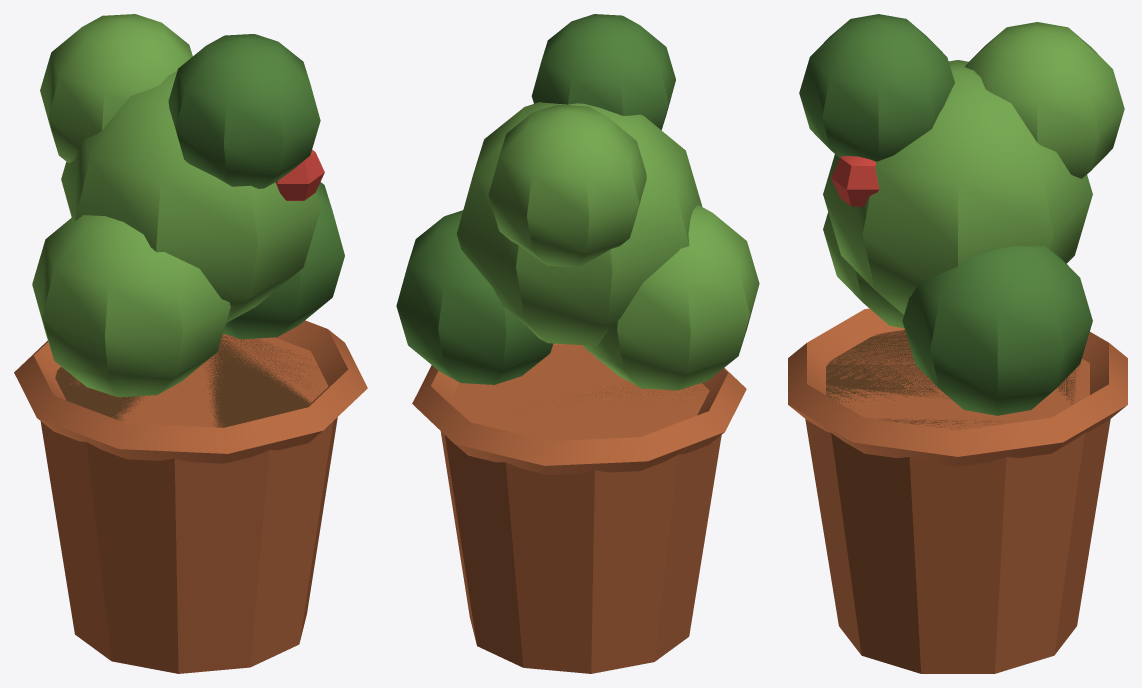
File: PR_Decor_Saksi.fbx
The picture shows the model from 3 angles, left to right: view 1: azimuth 30°, elevation 25°; view 2: azimuth 150°, elevation 25°; view 3: azimuth 270°, elevation 25°; orthographic projection. The views are drawn at different scales.
Parts seen in each view (by area): view 1: PR_Decor_Saksi; view 2: PR_Decor_Saksi; view 3: PR_Decor_Saksi.
Part boxes in pixels (x1,y1,x2,y2): PR_Decor_Saksi: (14,14,367,673); PR_Decor_Saksi: (396,14,759,673); PR_Decor_Saksi: (788,14,1127,673).
Size of the model in its own units: 0.48 by 0.85 by 0.428.
1 material, 1 textured.
